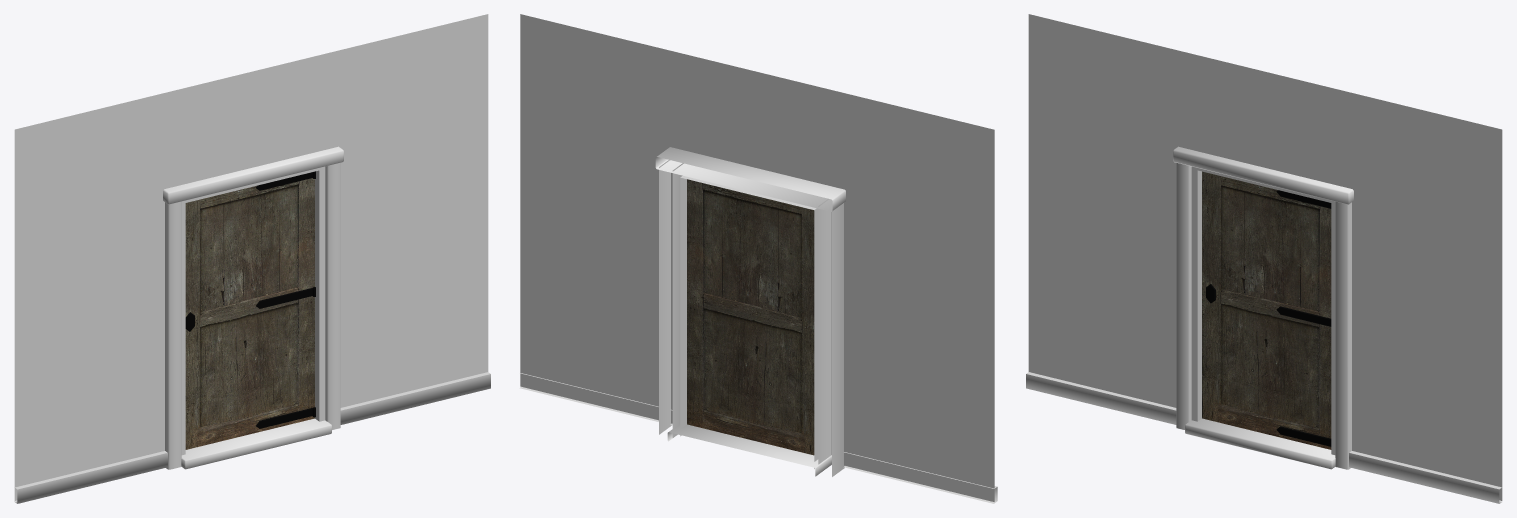
File: Wall_4x3_doors1.fbx
3 renders of one model, left to right at view 1: azimuth 30°, elevation 25°; view 2: azimuth 150°, elevation 25°; view 3: azimuth 330°, elevation 25°, orthographic.
Parts seen in each view (by area): view 1: polySurface489; view 2: polySurface489; view 3: polySurface489.
Part boxes in pixels (left/top/right/bottom): polySurface489: left=14, top=14, right=490, bottom=503; polySurface489: left=519, top=14, right=997, bottom=503; polySurface489: left=1026, top=14, right=1502, bottom=503.
Bounding box in the file's own units: 4 × 3.03 × 0.3391.
